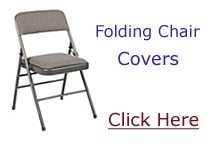obstacle: (12, 10, 96, 130)
